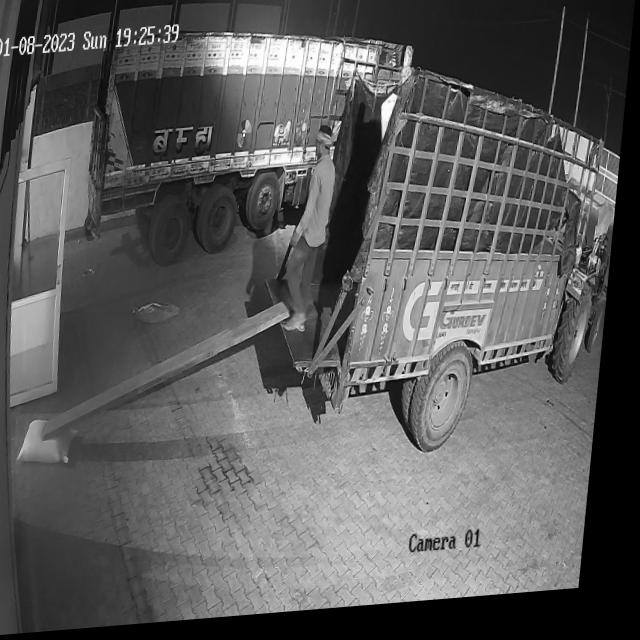sack: (25, 416, 87, 467)
